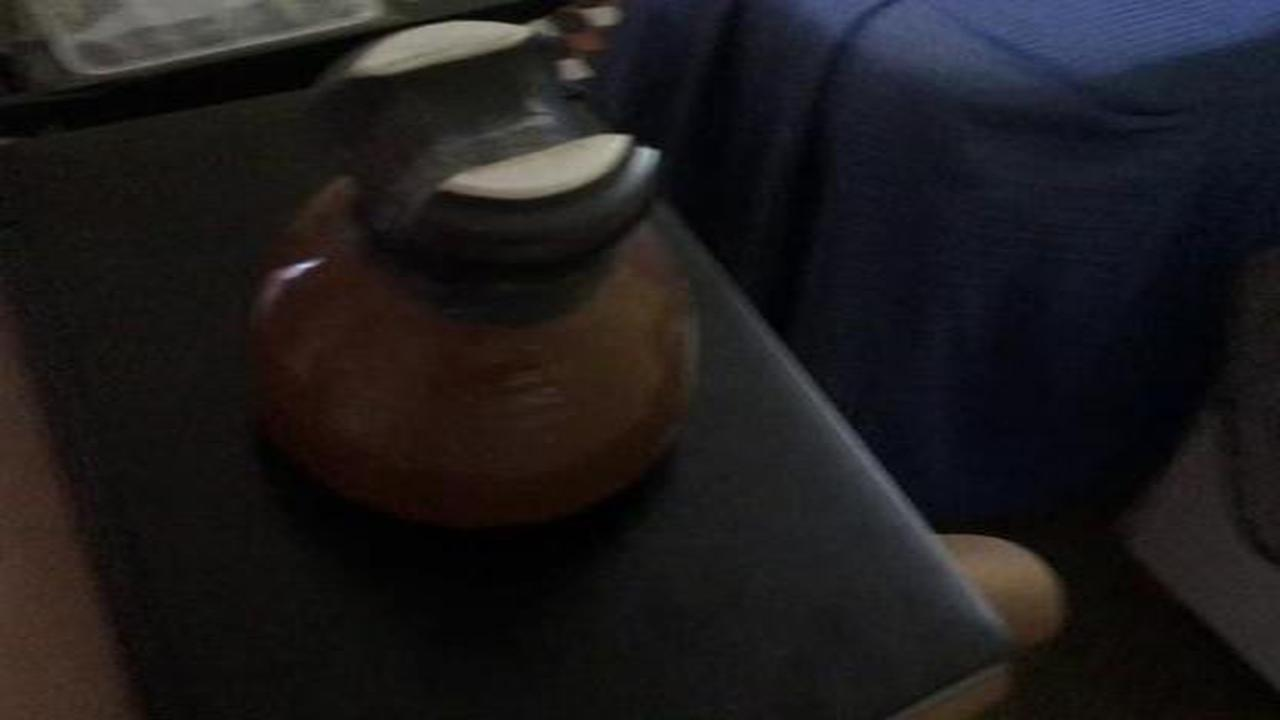insulator_pin: (228, 1, 730, 547)
